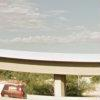Bridge: (4, 43, 95, 83)
